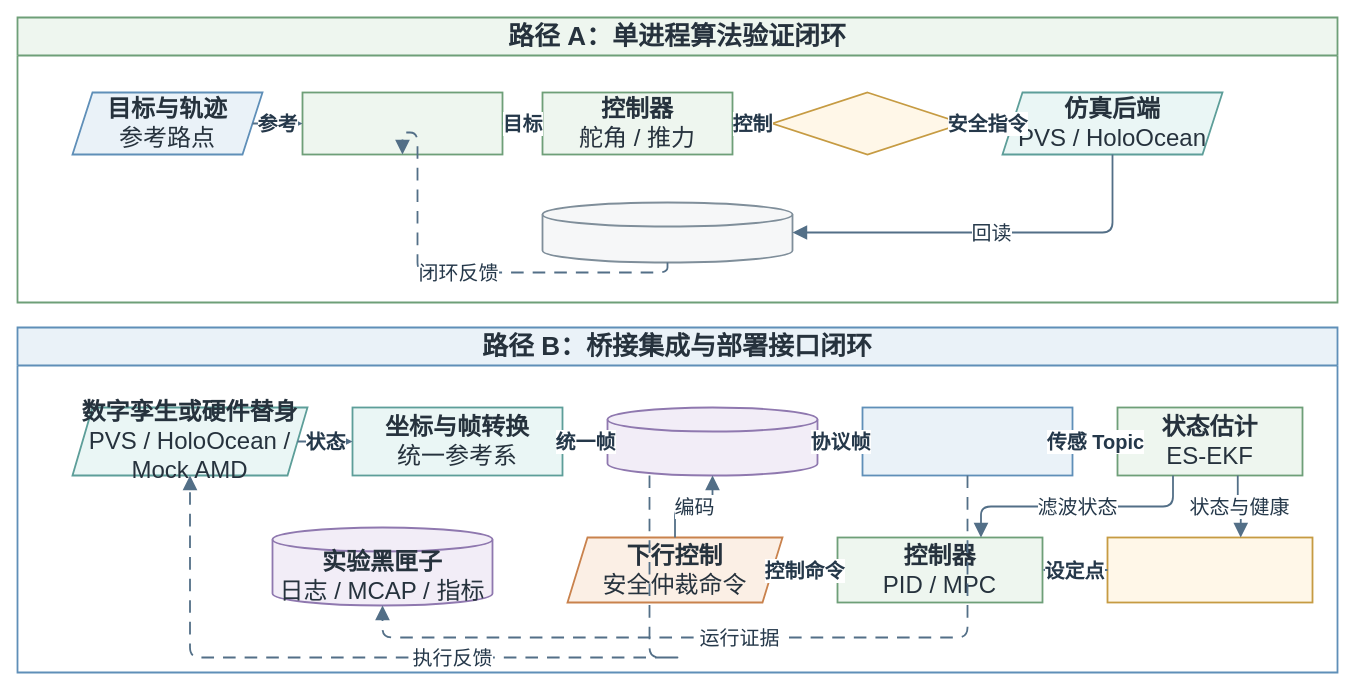
This 1356x691 diagram has some shape labels left out. Each missing label, with the centre of its shape:
"ROS2 桥接 传感 / 控制 Topic" goes at (x=967, y=441).
"任务决策 行为树设定点" goes at (x=1209, y=569).
"传感器状态 位置 / 姿态 / 速度" goes at (x=667, y=232).
"制导 航向 / 深度参考" goes at (x=402, y=123).
"安全过滤 限幅 / 回退" goes at (x=867, y=123).
"跨进程协议 Zenoh / UDP" goes at (x=712, y=441).
